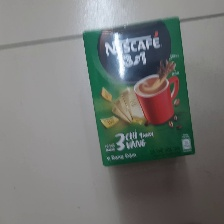Nes Rang: (83, 17, 196, 167)
